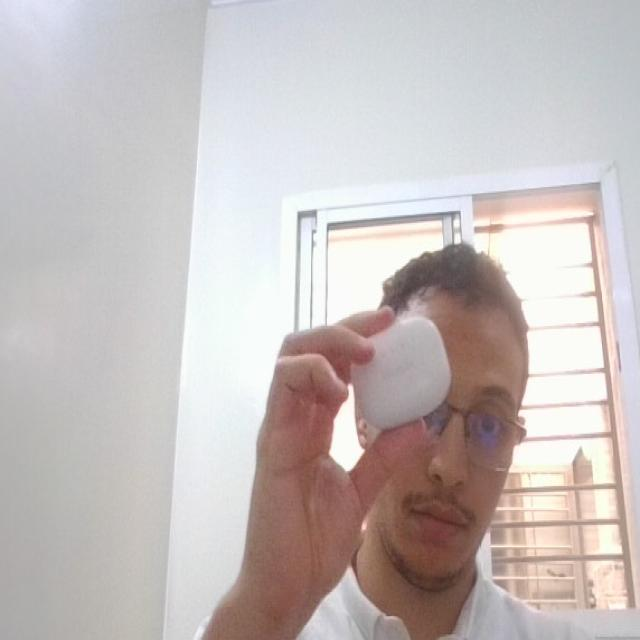airpods: (340, 311, 459, 432)
